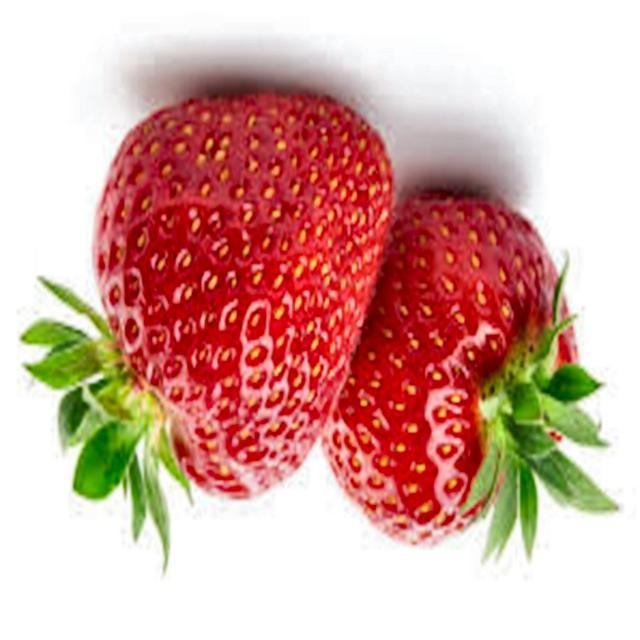strawberry: (22, 92, 392, 562), (324, 191, 616, 553)
